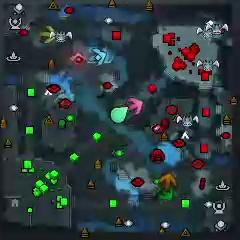p2: (110, 106, 127, 125)
x1: (125, 96, 144, 116)
x2: (39, 26, 56, 43)
x3: (87, 46, 108, 66)
x4: (159, 186, 174, 202)
x5: (160, 172, 177, 192)
